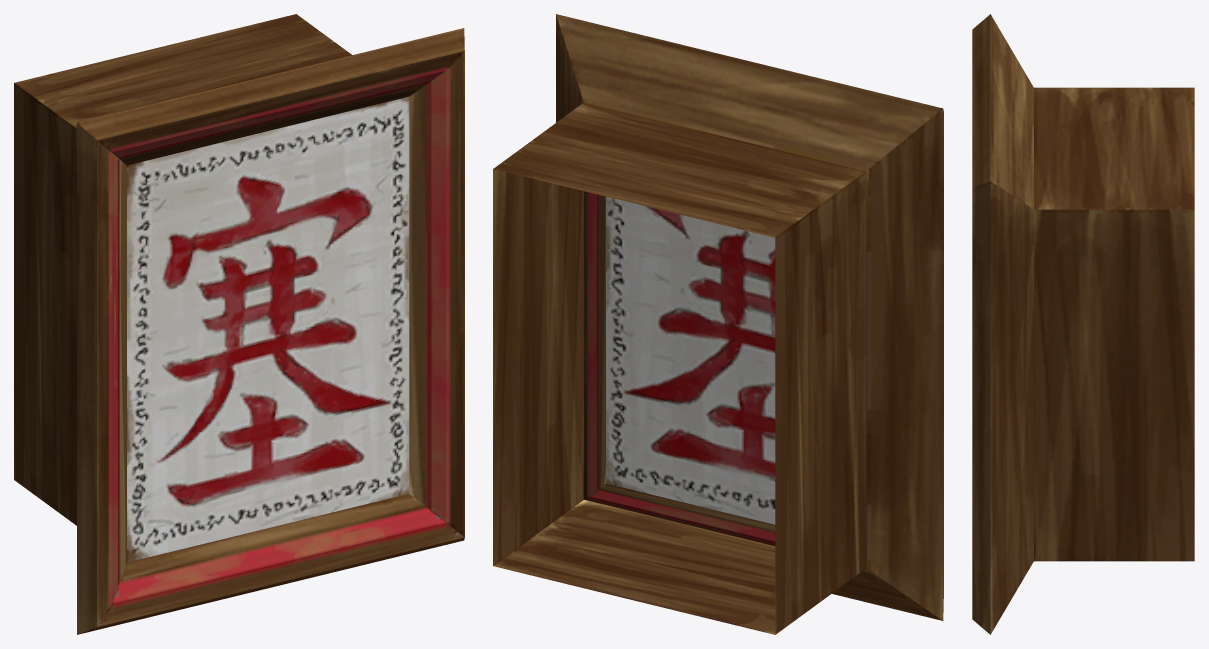
File: SM_ENV_KNFRST_LargeBill_A.FBX
3 renders of one model, left to right at view 1: azimuth 30°, elevation 25°; view 2: azimuth 150°, elevation 25°; view 3: azimuth 270°, elevation 25°, orthographic. The views are drawn at different scales.
Visible parts, largest first — view 1: SM_ENV_KNFRST_LargeBill_A; view 2: SM_ENV_KNFRST_LargeBill_A; view 3: SM_ENV_KNFRST_LargeBill_A.
Boxes of the visible parts, x1=… form: SM_ENV_KNFRST_LargeBill_A: x1=14, y1=14, x2=464, y2=634; SM_ENV_KNFRST_LargeBill_A: x1=493, y1=14, x2=943, y2=634; SM_ENV_KNFRST_LargeBill_A: x1=972, y1=14, x2=1194, y2=634.
Size of the model in its own units: 316 by 399 by 178.
